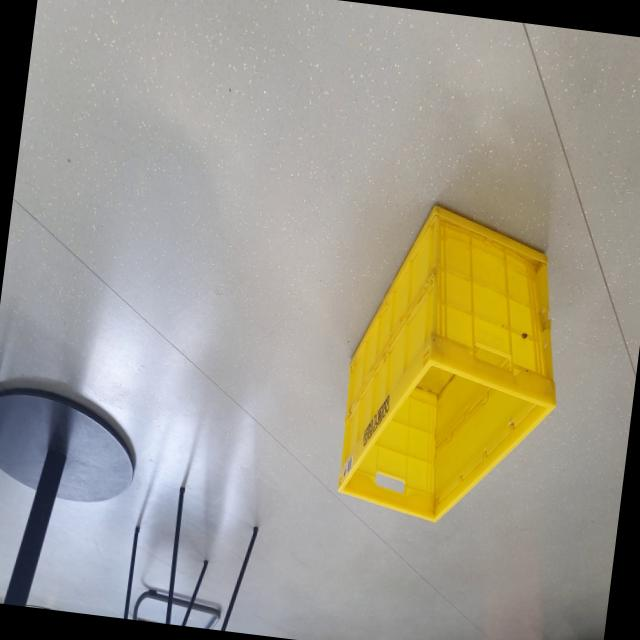box: (323, 188, 582, 538)
